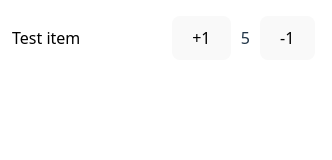
it: ItemCounter › should decrease count when -1 button is pressed
Click the button "-1" at (287, 38), box [260,16,314,60]
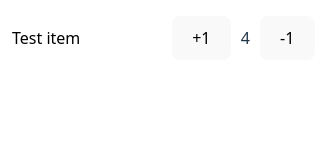
Expected: the text "4" is shown, [241,26,250,50]
